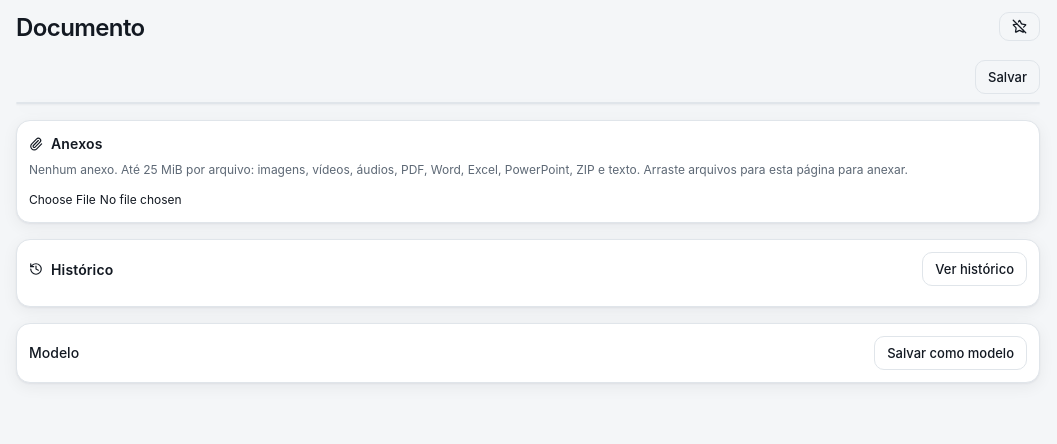
Test: PagePanel (favoritos, anexos, histórico, modelo) › salvar como modelo envia o nome
This screenshot has width=1057, height=444.
Click the button "Salvar como modelo".
click(951, 353)  # box [874, 336, 1027, 370]
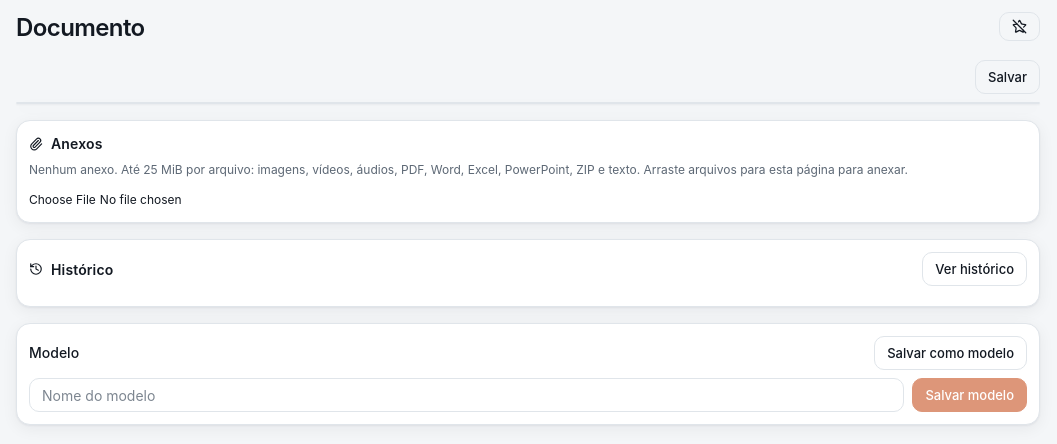
Type "Checklist" into the field labelled "Nome do modelo".
click(467, 395); type("Checklist")  # box [29, 378, 904, 412]
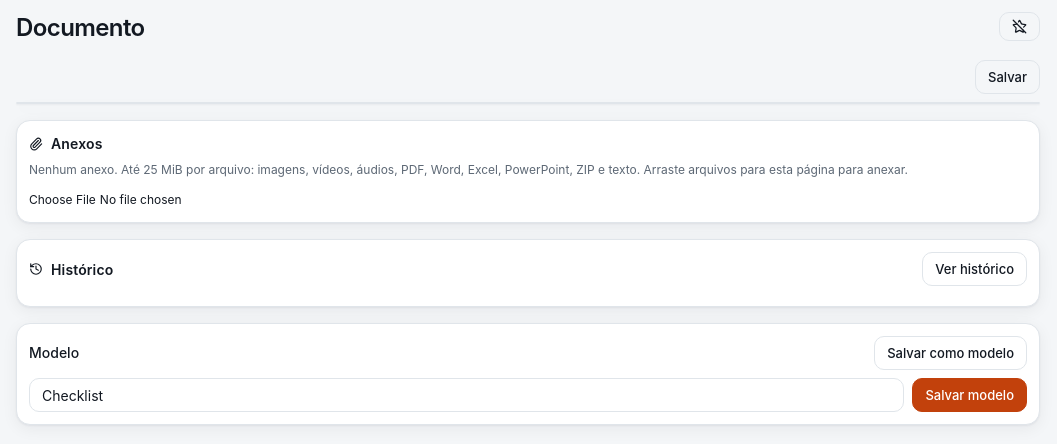
Click the button "Salvar modelo".
click(970, 395)  # box [912, 378, 1027, 412]
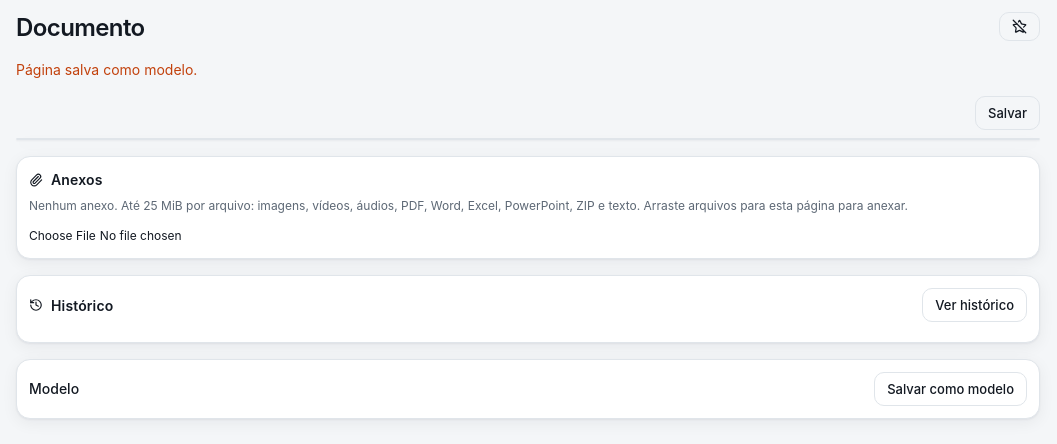
expect the text "Página salva como modelo." is shown: met, box [16, 61, 197, 78]
